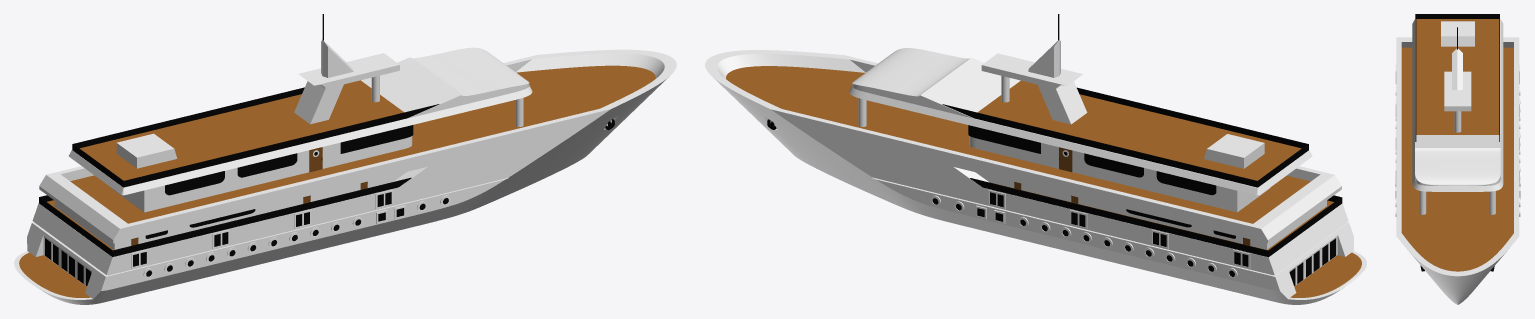
Rendered from YachtModel.glb.
3 renders of one model, left to right at view 1: azimuth 30°, elevation 25°; view 2: azimuth 150°, elevation 25°; view 3: azimuth 270°, elevation 25°, orthographic. The views are drawn at different scales.
Size of the model in its own units: 0.1103 by 0.0336 by 0.0224.
